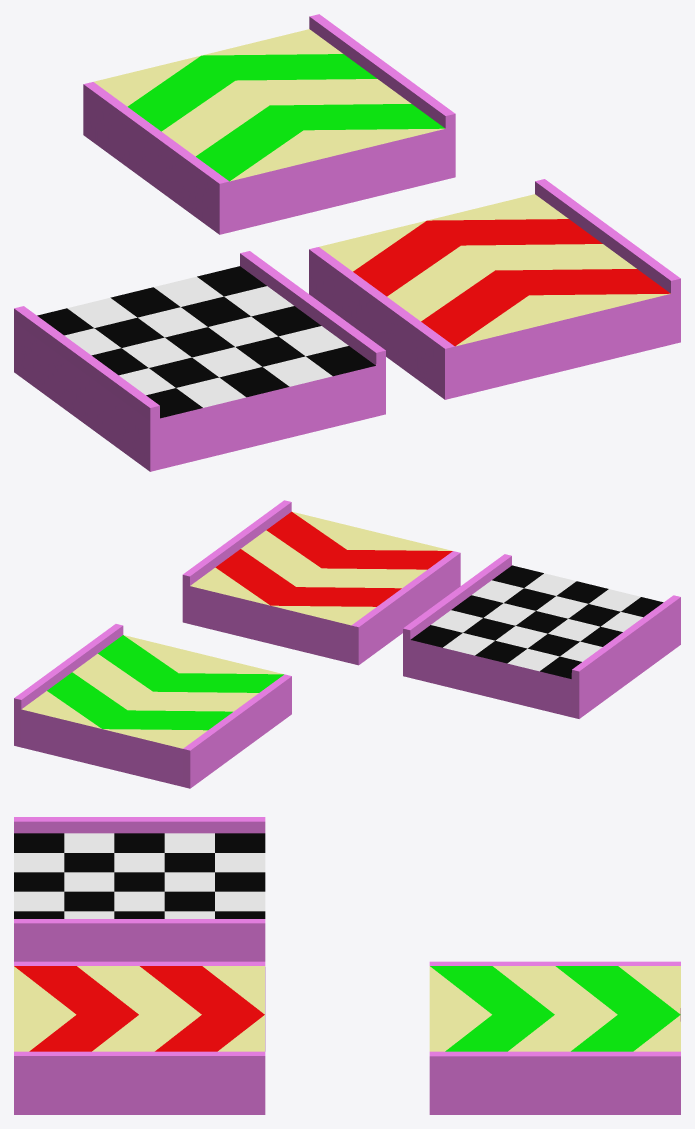
File: ileri.geri.oyun.2.fbx
The picture shows the model from 3 angles, top to bottom: view 1: azimuth 30°, elevation 25°; view 2: azimuth 150°, elevation 25°; view 3: azimuth 270°, elevation 25°; orthographic projection. The views are drawn at different scales.
Visible parts, largest first — view 1: bitiş.platform, hareketli.platform.001, hareketli.platform; view 2: bitiş.platform, hareketli.platform.001, hareketli.platform; view 3: hareketli.platform, hareketli.platform.001, bitiş.platform.
Boxes of the visible parts, x1,y1,x2,y2 form: bitiş.platform: (14,251,385,471); hareketli.platform.001: (83,14,455,234); hareketli.platform: (309,179,680,399); bitiş.platform: (403,554,680,718); hareketli.platform.001: (14,624,291,788); hareketli.platform: (182,500,460,665); hareketli.platform: (14,961,265,1114); hareketli.platform.001: (429,961,680,1114); bitiş.platform: (14,817,265,961).
Bounding box in the file's own units: 450 × 51.71 × 531.
